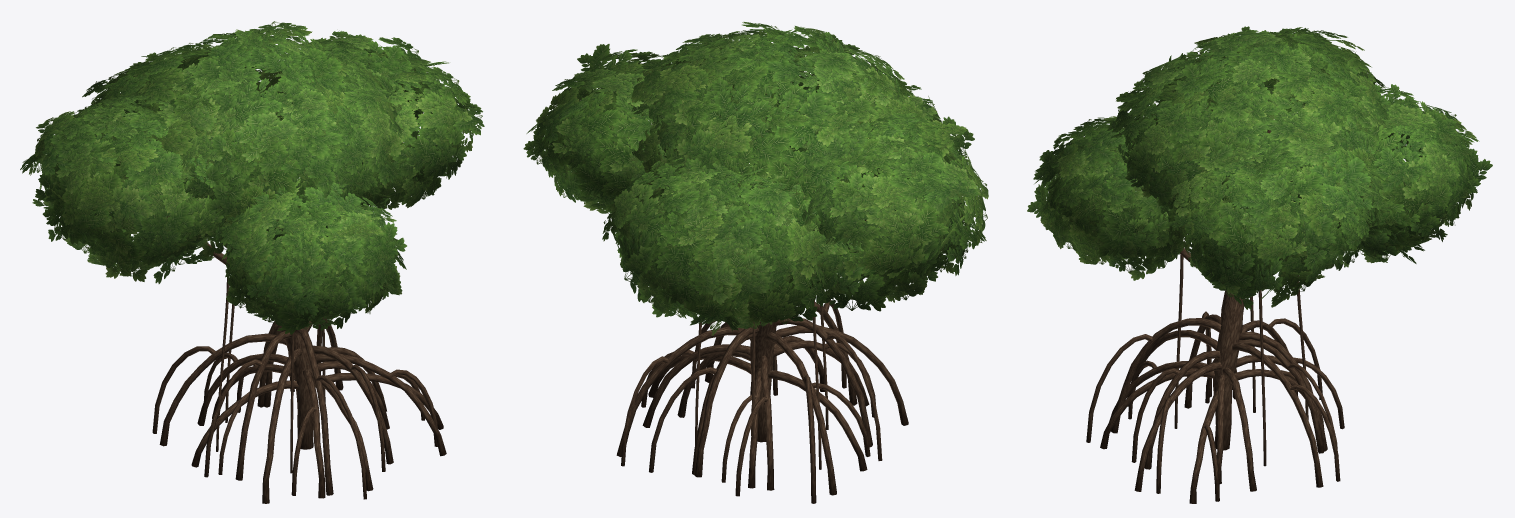
The model's file is mangrove_d.glb.
3 views of the same model, side by side, from view 1: azimuth 30°, elevation 25°; view 2: azimuth 150°, elevation 25°; view 3: azimuth 270°, elevation 25° (orthographic). The views are drawn at different scales.
Parts seen in each view (by area): view 1: leaves, wood; view 2: leaves, wood; view 3: leaves, wood.
Boxes of the visible parts, x1,y1,x2,y2 form: leaves: (20, 21, 484, 334); wood: (152, 216, 446, 503); leaves: (523, 22, 988, 335); wood: (616, 219, 908, 503); leaves: (1027, 26, 1492, 309); wood: (1086, 130, 1344, 503).
Size of the model in its own units: 12.67 by 11.57 by 12.7.
Materials: 2 (2 with a texture image).
